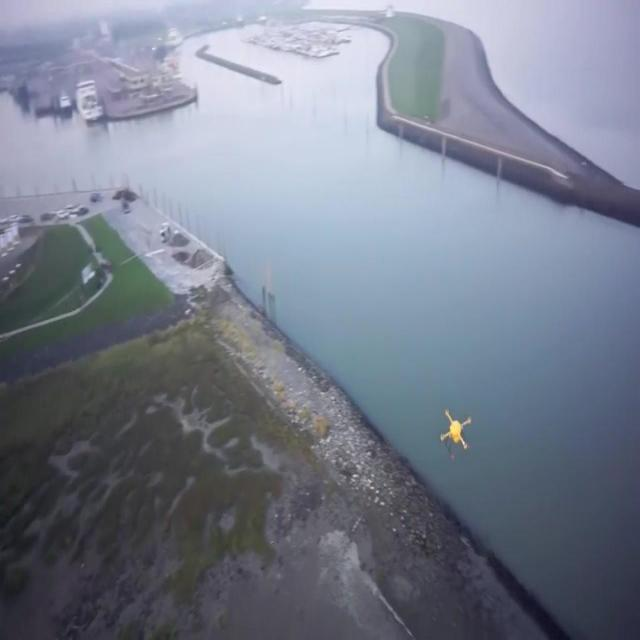drone: (438, 404, 472, 457)
